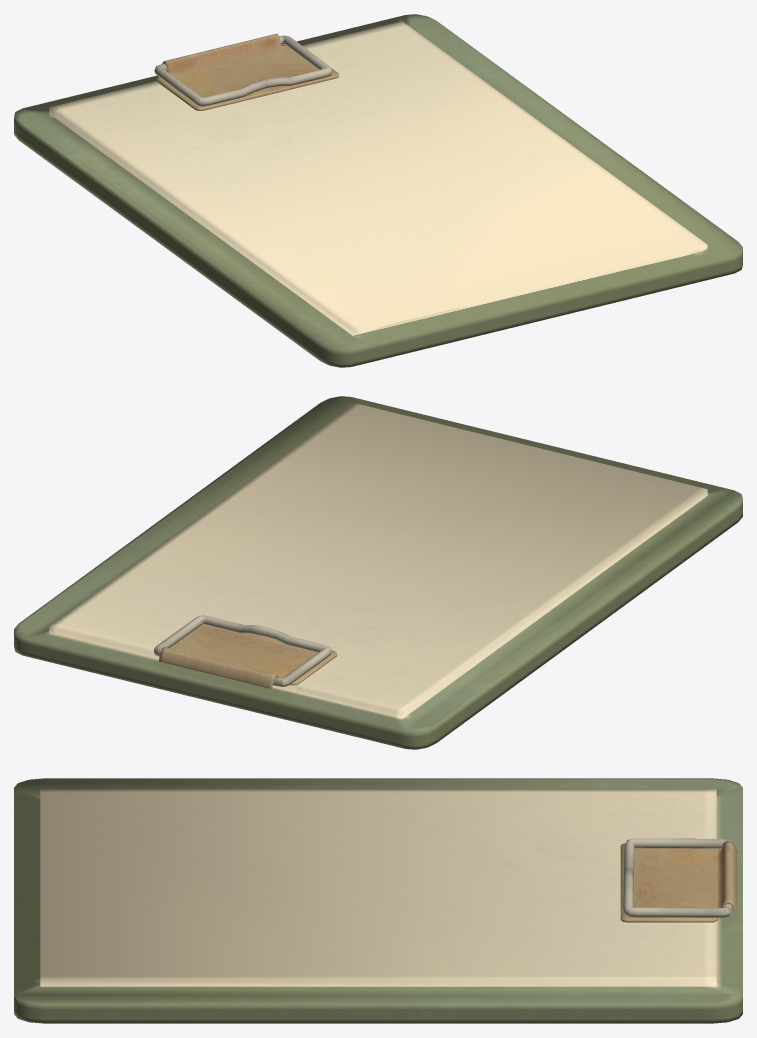
Rendered from Clipboard.fbx.
3 renders of one model, top to bottom at view 1: azimuth 30°, elevation 25°; view 2: azimuth 150°, elevation 25°; view 3: azimuth 270°, elevation 25°, orthographic. The views are drawn at different scales.
Parts seen in each view (by area): view 1: ClipBoard; view 2: ClipBoard; view 3: ClipBoard.
Boxes of the visible parts, x1,y1,x2,y2 form: ClipBoard: (14,14,742,367); ClipBoard: (14,396,742,749); ClipBoard: (14,778,742,1023).
Bounding box in the file's own units: 536 × 45.75 × 731.
Materials: 1 (1 with a texture image).
